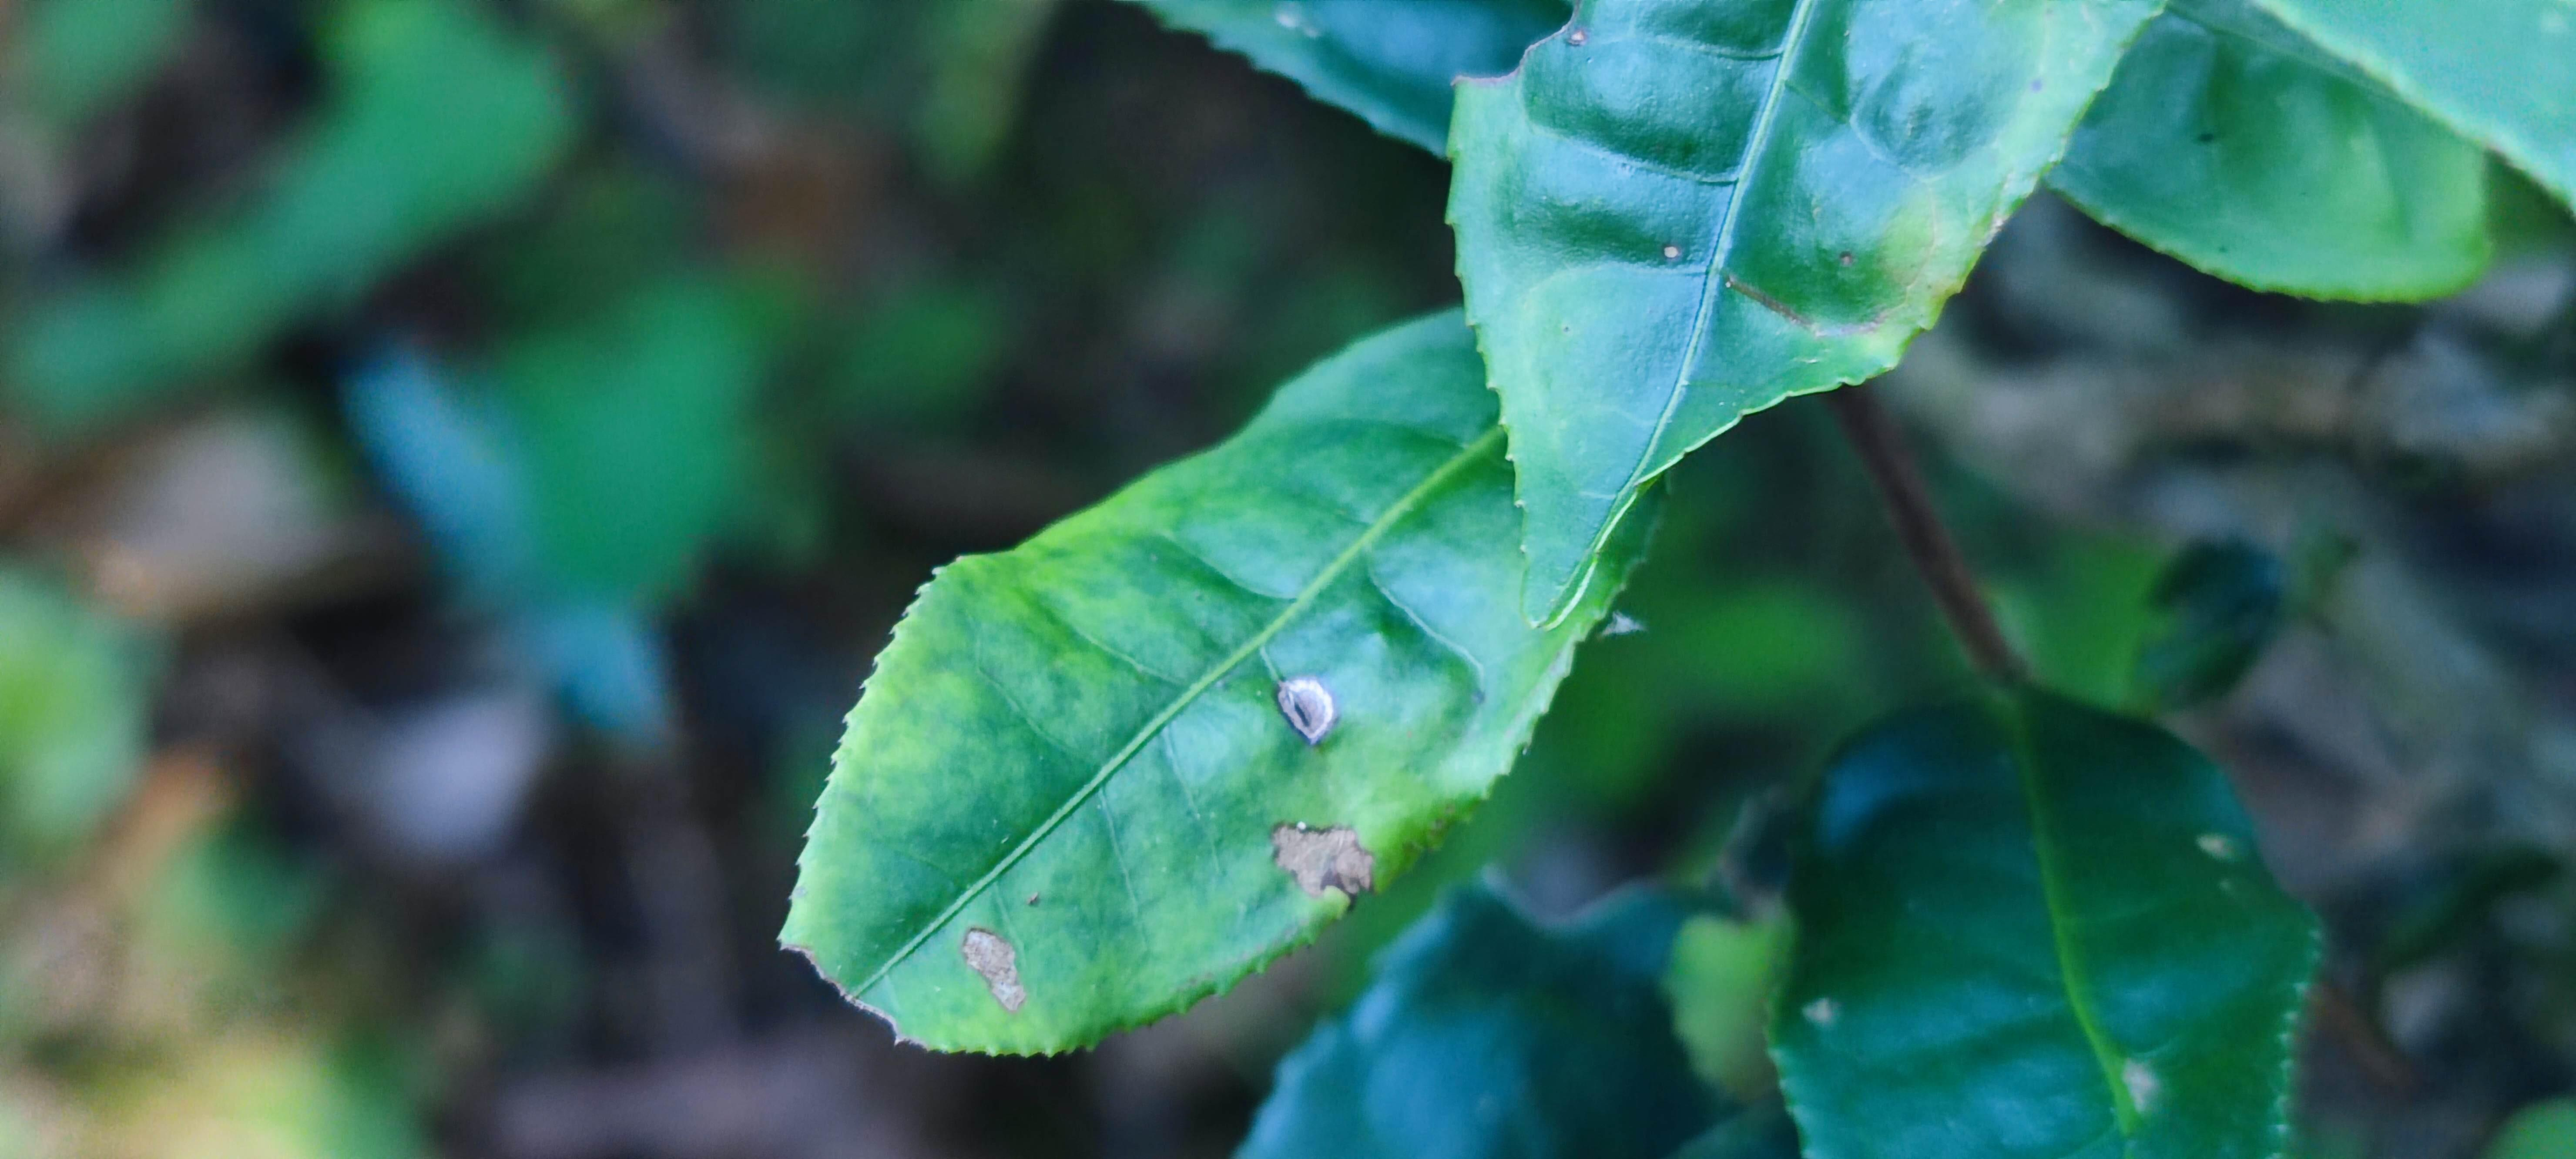chihuo_low: (1444, 3, 2178, 642)
tanju_high: (780, 309, 1682, 1062)
